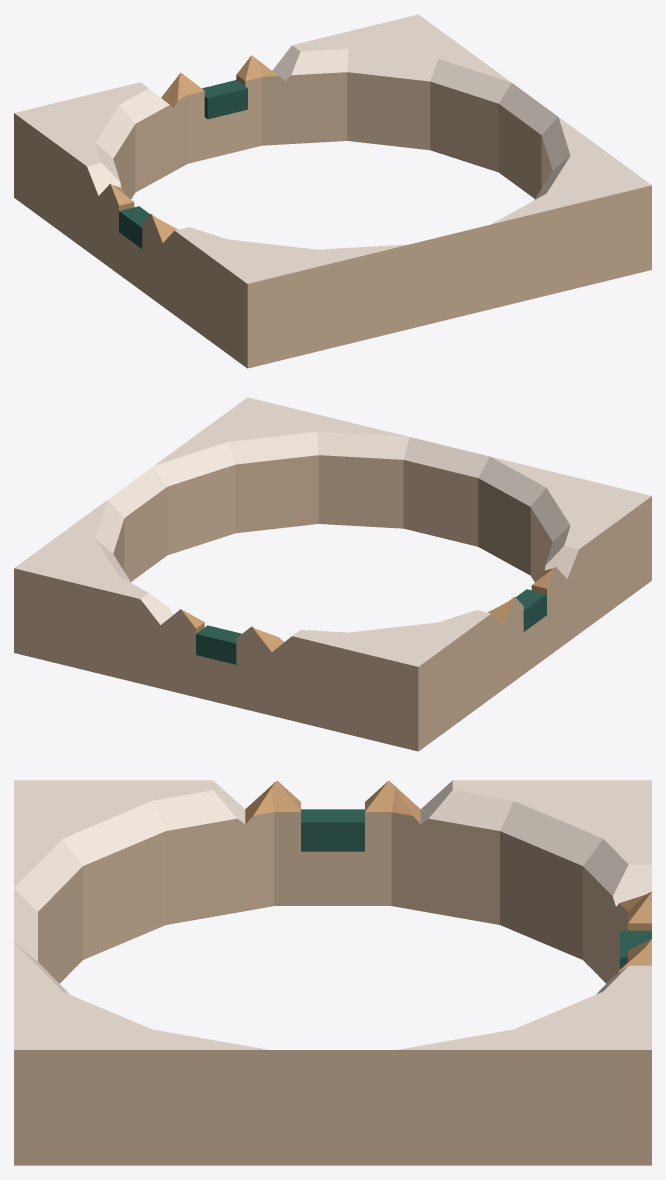
File: Puzzle_Floor_Conduit_Rotating_Housing_Corner.fbx
3 views of the same model, one above another, from view 1: azimuth 30°, elevation 25°; view 2: azimuth 150°, elevation 25°; view 3: azimuth 270°, elevation 25° (orthographic). The views are drawn at different scales.
Visible parts, largest first — view 1: Sandstone_Trim.Sandstone_Trim.Sandstone_Trim.Sandstone_Trim., Sandstone_Floor.Sandstone_Floor.Sandstone_Floor.Sandstone_Fl, Sandstone_5.Sandstone_5.Sandstone_5.Sandstone_5, object2, object1; view 2: Sandstone_Trim.Sandstone_Trim.Sandstone_Trim.Sandstone_Trim., Sandstone_Floor.Sandstone_Floor.Sandstone_Floor.Sandstone_Fl, object2, Sandstone_5.Sandstone_5.Sandstone_5.Sandstone_5, object1; view 3: Sandstone_Trim.Sandstone_Trim.Sandstone_Trim.Sandstone_Trim., Sandstone_Floor.Sandstone_Floor.Sandstone_Floor.Sandstone_Fl, Sandstone_5.Sandstone_5.Sandstone_5.Sandstone_5, object1, object2.
Part boxes in pixels (x1=…): Sandstone_Trim.Sandstone_Trim.Sandstone_Trim.Sandstone_Trim.: x1=14, y1=72, x2=651, y2=368; Sandstone_Floor.Sandstone_Floor.Sandstone_Floor.Sandstone_Fl: x1=14, y1=14, x2=651, y2=283; Sandstone_5.Sandstone_5.Sandstone_5.Sandstone_5: x1=110, y1=55, x2=278, y2=242; object2: x1=202, y1=80, x2=247, y2=119; object1: x1=119, y1=206, x2=150, y2=248; Sandstone_Trim.Sandstone_Trim.Sandstone_Trim.Sandstone_Trim.: x1=14, y1=455, x2=651, y2=751; Sandstone_Floor.Sandstone_Floor.Sandstone_Floor.Sandstone_Fl: x1=14, y1=397, x2=651, y2=666; object2: x1=196, y1=625, x2=241, y2=664; Sandstone_5.Sandstone_5.Sandstone_5.Sandstone_5: x1=181, y1=567, x2=555, y2=651; object1: x1=515, y1=589, x2=546, y2=631; Sandstone_Trim.Sandstone_Trim.Sandstone_Trim.Sandstone_Trim.: x1=14, y1=812, x2=651, y2=1165; Sandstone_Floor.Sandstone_Floor.Sandstone_Floor.Sandstone_Fl: x1=14, y1=780, x2=651, y2=1049; Sandstone_5.Sandstone_5.Sandstone_5.Sandstone_5: x1=245, y1=780, x2=651, y2=972; object1: x1=301, y1=809, x2=364, y2=851; object2: x1=620, y1=930, x2=651, y2=969.
Bounding box in the file's own units: 1 × 0.2 × 1.
